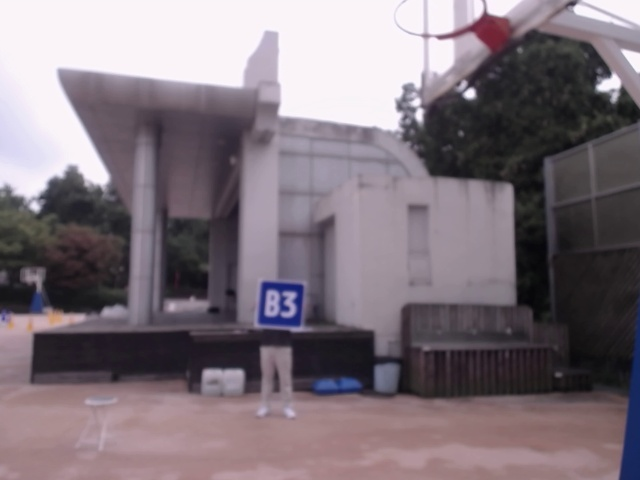delivery_b3: (259, 279, 307, 331)
